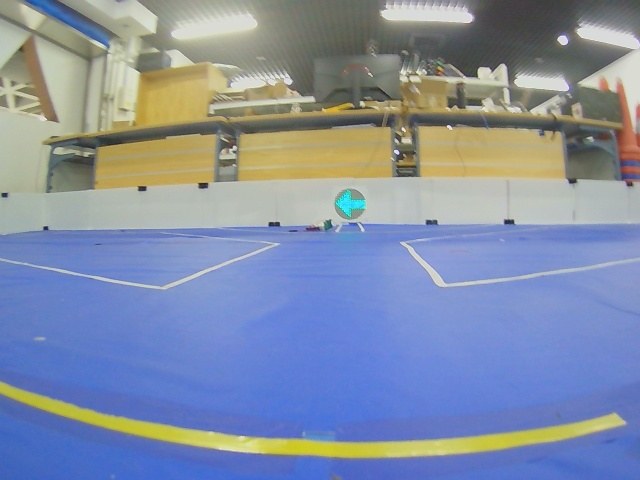left_green: (335, 189, 367, 220)
